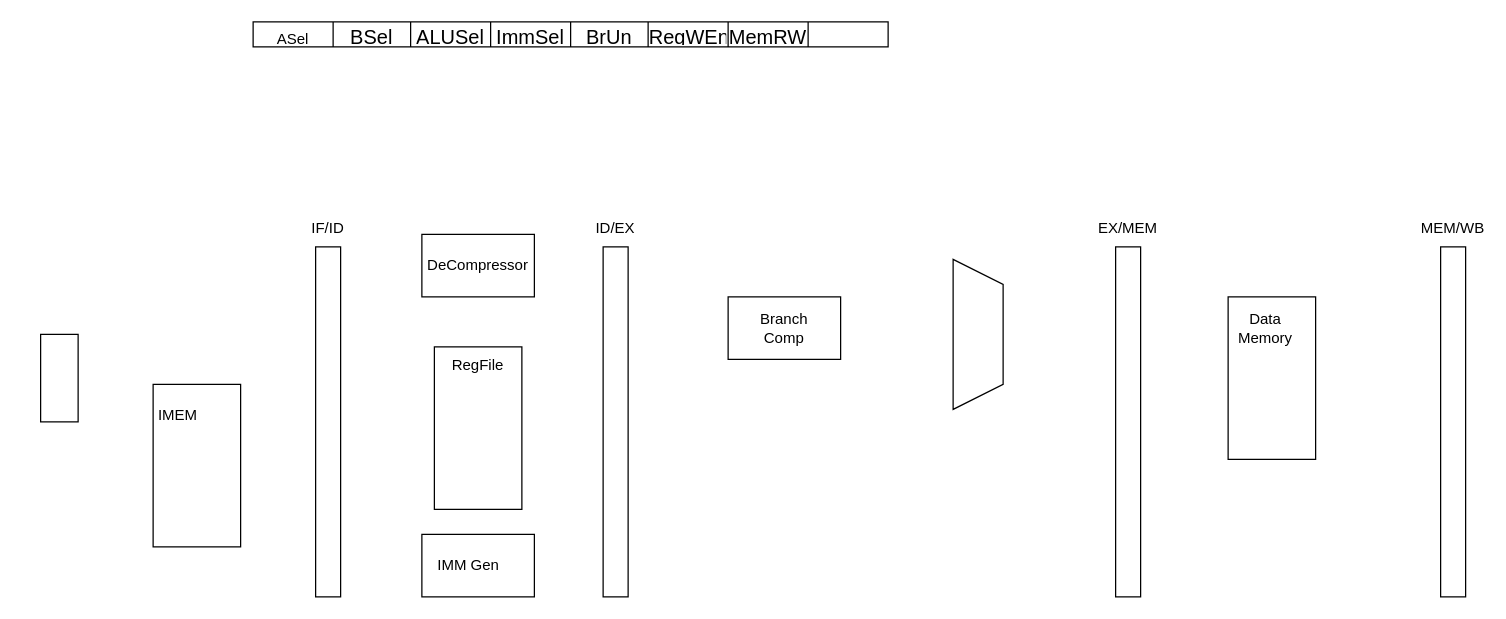
Some shapes in this 1506 by 619 pixel diagram are drawn without their labels. The centre of each missing label's shape, as x and y in pixels:
ALU: pixel 977 333
PC: pixel 58 377
